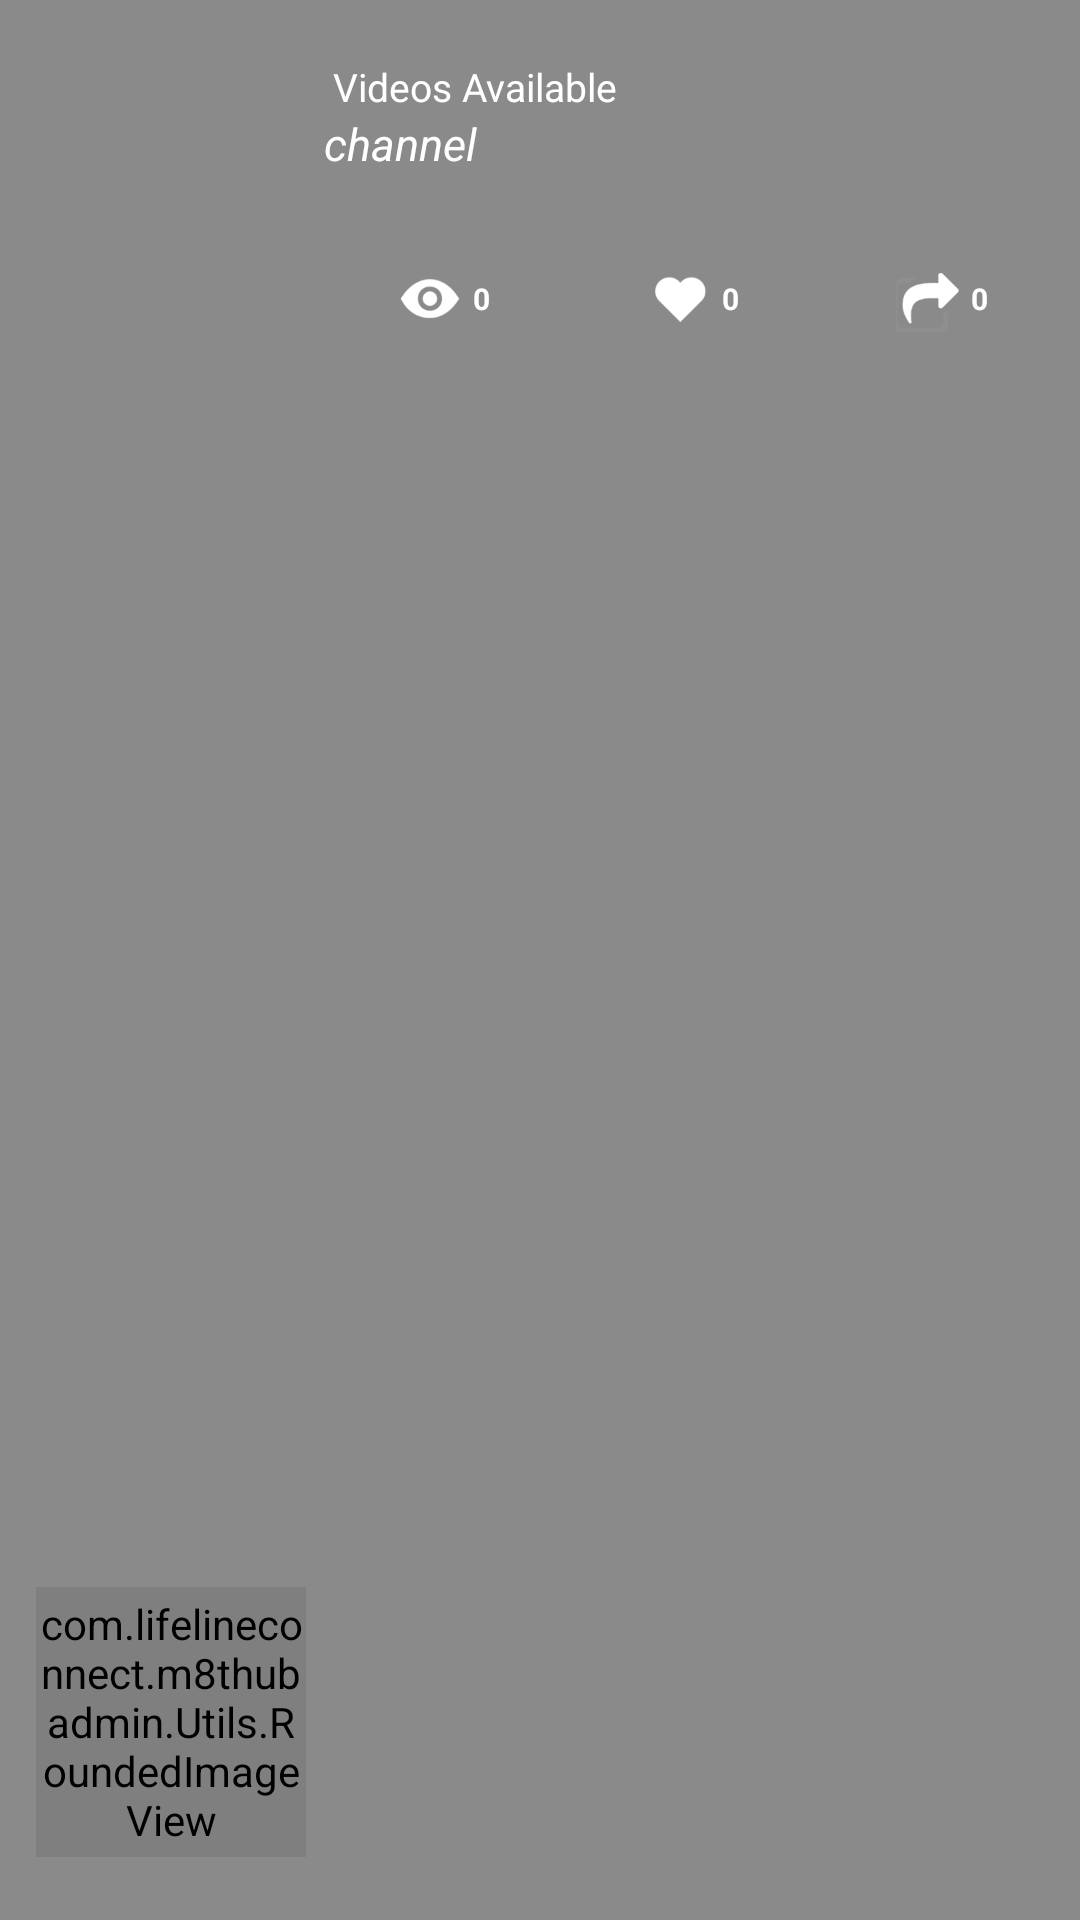

Where to tap for icons on this 1080px x 1920px app screen, as (x,y):
arrow share: (930,298)
heart fav: (680,299)
view: (430,298)
